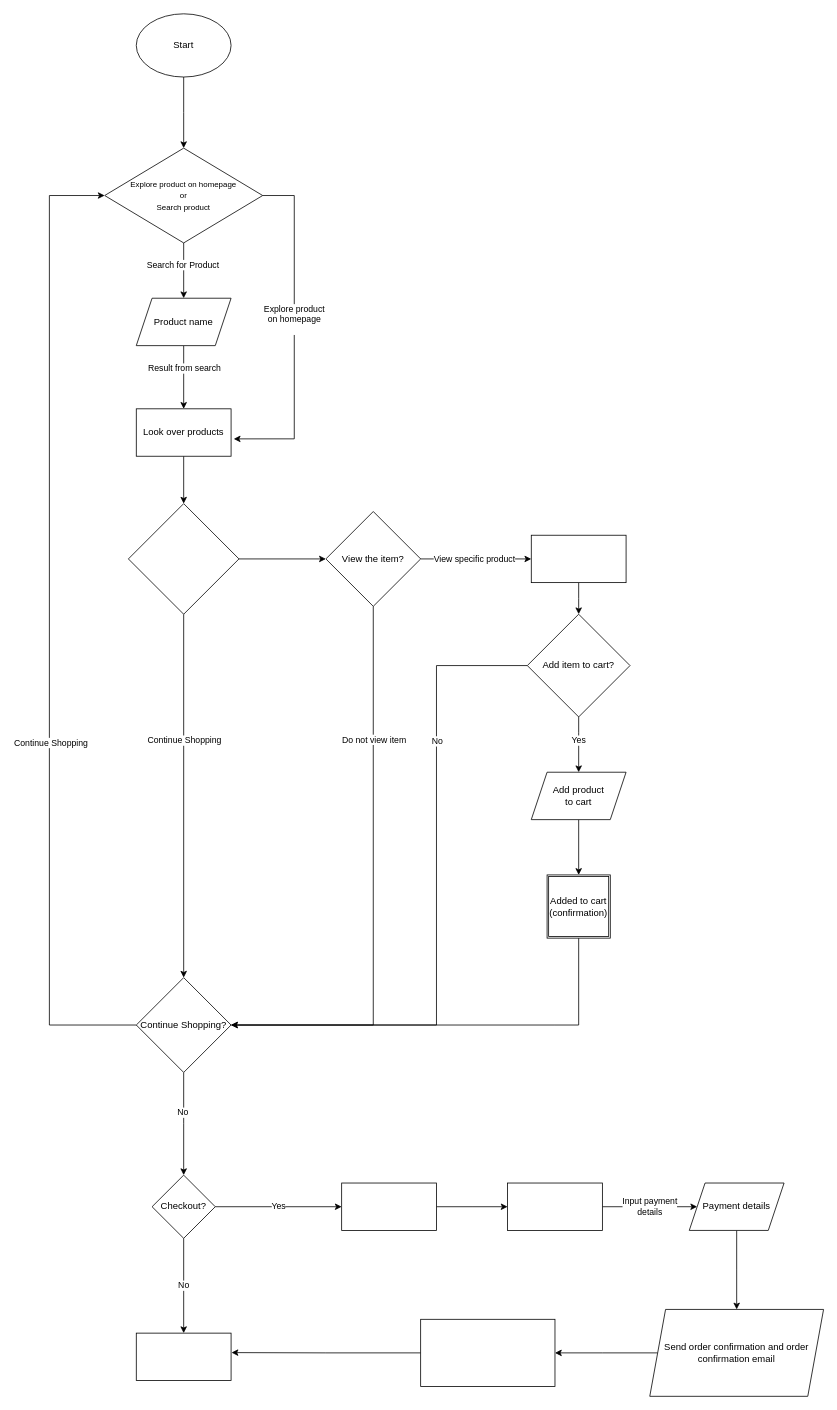
The diagram is 837 pixels wide and 1410 high, and some of its shapes have lost their labels. Each missing label, with the box of its shape:
Leave Website: (135, 1332, 231, 1381)
Open product's webpage: (530, 534, 626, 583)
Order Confirmation Screen: (420, 1319, 555, 1386)
View Cart: (341, 1182, 436, 1230)
View Payment: (507, 1182, 602, 1230)
View specific product or Continue Shopping?: (128, 503, 239, 614)
